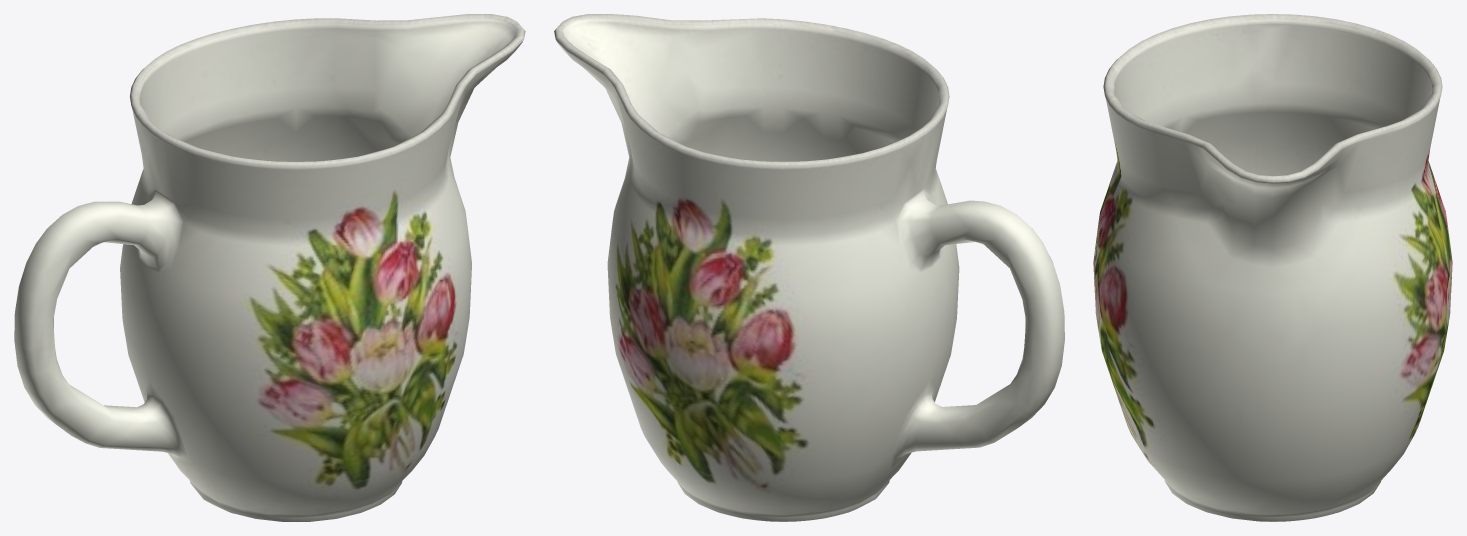
The model's file is jug_01.glb.
The picture shows the model from 3 angles, left to right: view 1: azimuth 30°, elevation 25°; view 2: azimuth 150°, elevation 25°; view 3: azimuth 270°, elevation 25°; orthographic projection. The views are drawn at different scales.
Parts seen in each view (by area): view 1: jug_01; view 2: jug_01; view 3: jug_01.
Boxes of the visible parts, bbox=[...] form: jug_01: bbox=[14, 14, 525, 521]; jug_01: bbox=[554, 14, 1064, 521]; jug_01: bbox=[1093, 14, 1452, 521].
Bounding box in the file's own units: 0.275 × 0.2113 × 0.1675.
Materials: 1 (1 with a texture image).
